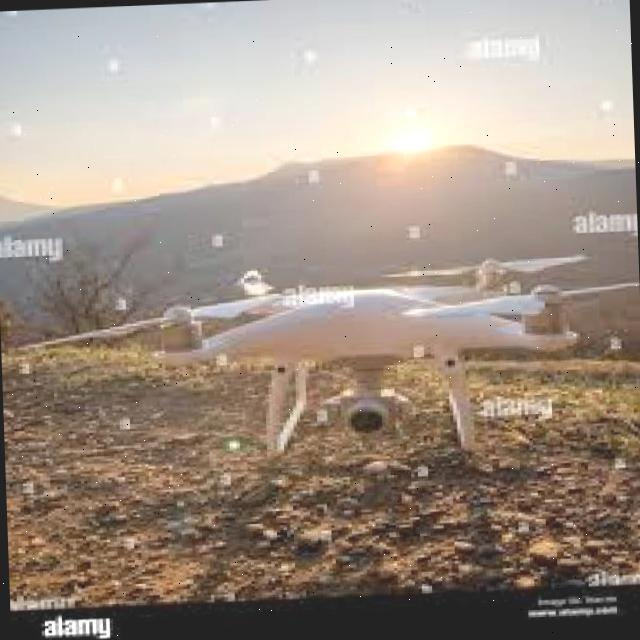drone: (32, 238, 640, 479)
